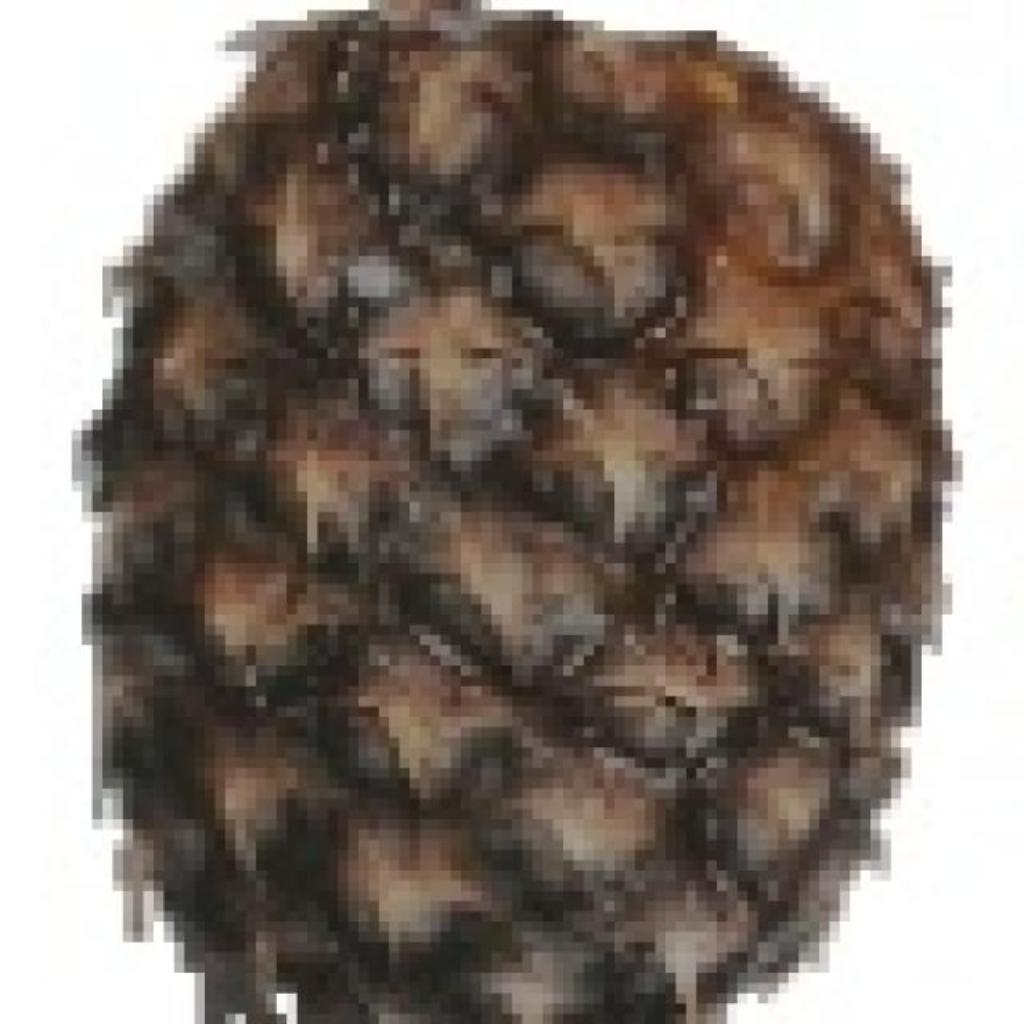pineapple: (82, 0, 950, 1024)
